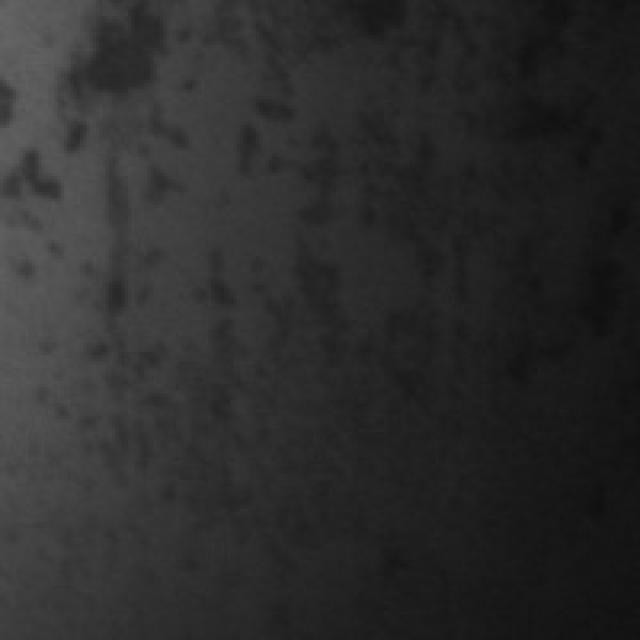pitted_surface: (22, 22, 294, 582), (432, 93, 637, 630), (237, 51, 438, 493)
